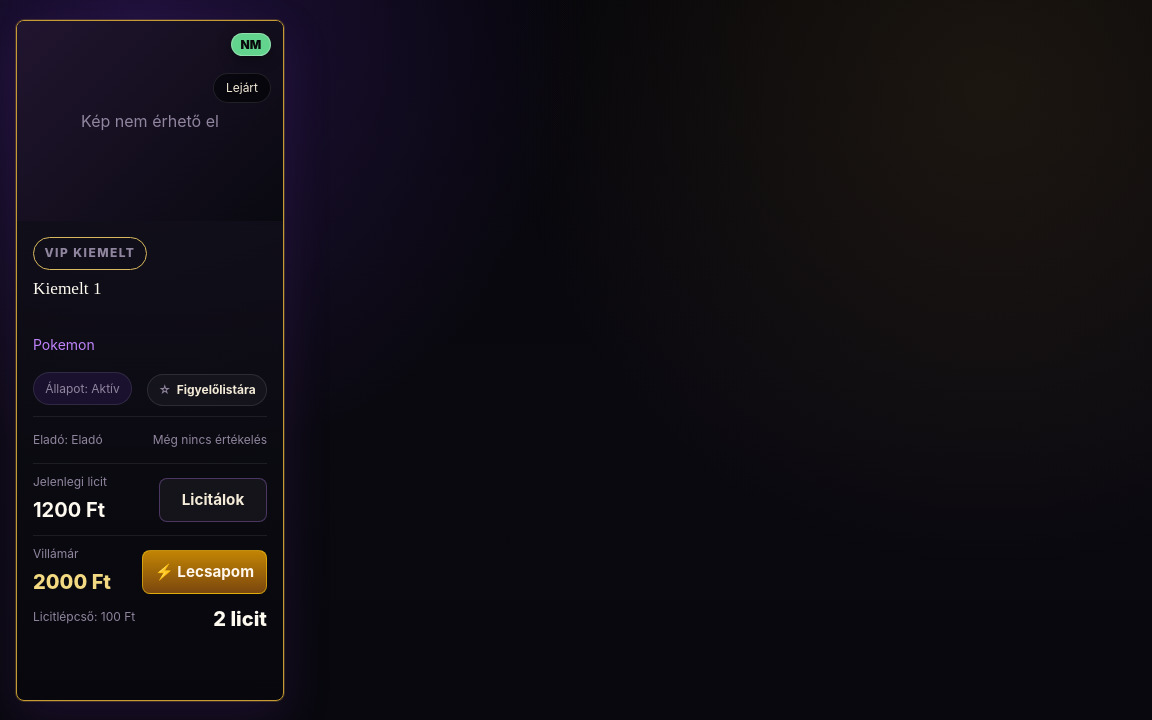
Test case: HomeFeatured › 360 px mobilnézetben egy kártyát mutat és swipe-pal lapoz
(page scrolled)
Expected: the link "Kiemelt 1" is shown, [33,279,102,298]
Expected: the text "Kiemelt 2" is not shown
Press the mouse on the element with class "home-auction-grid" at (150, 361), box [16,20,284,701]
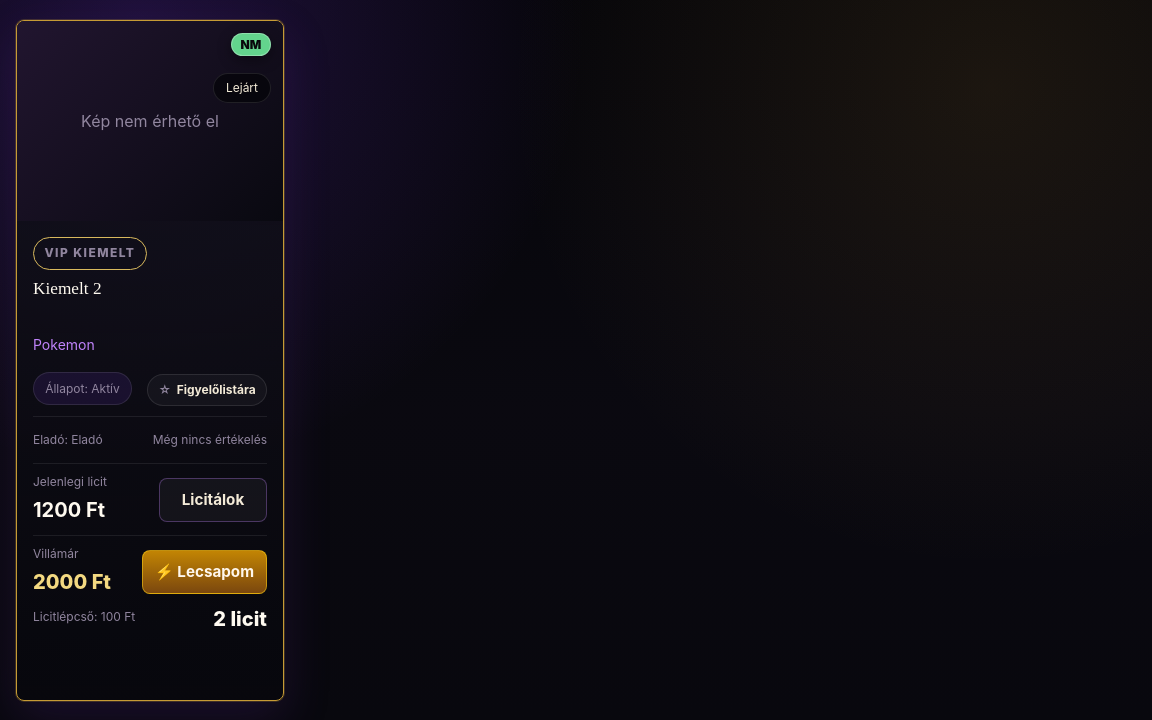
Result: the link "Kiemelt 2" is shown at [33,279,102,298]
